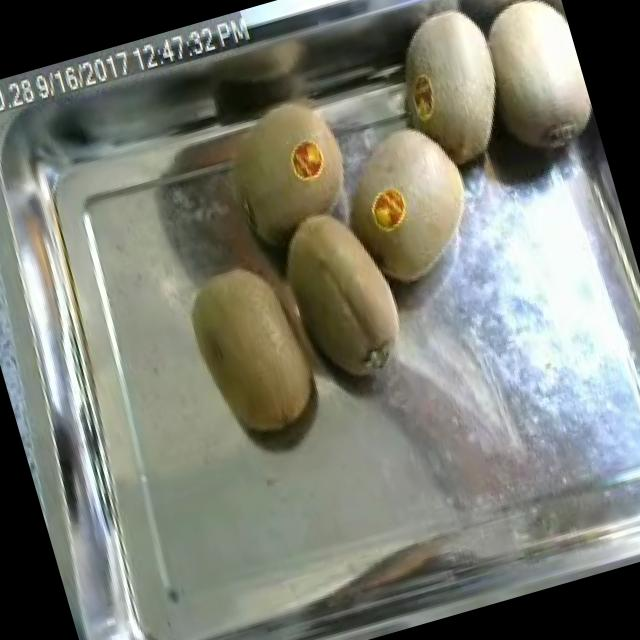Fruit: (254, 186, 428, 404), (168, 242, 338, 454), (341, 102, 498, 298), (374, 0, 521, 186), (464, 0, 606, 183)
